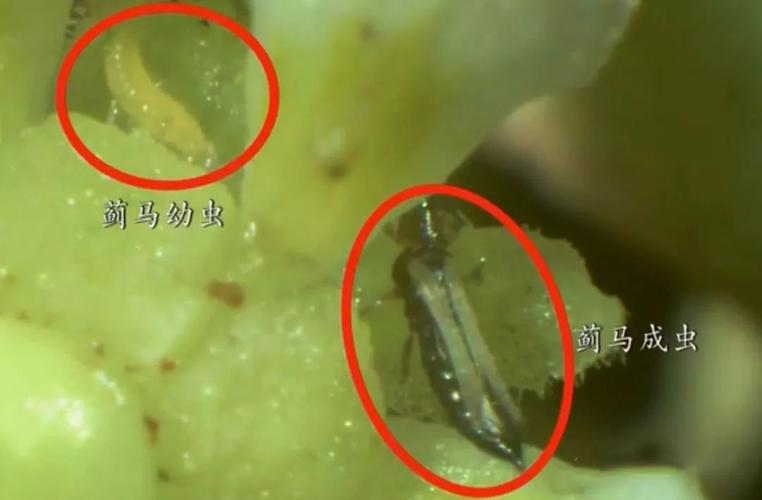Thripidae: (374, 204, 534, 477)
